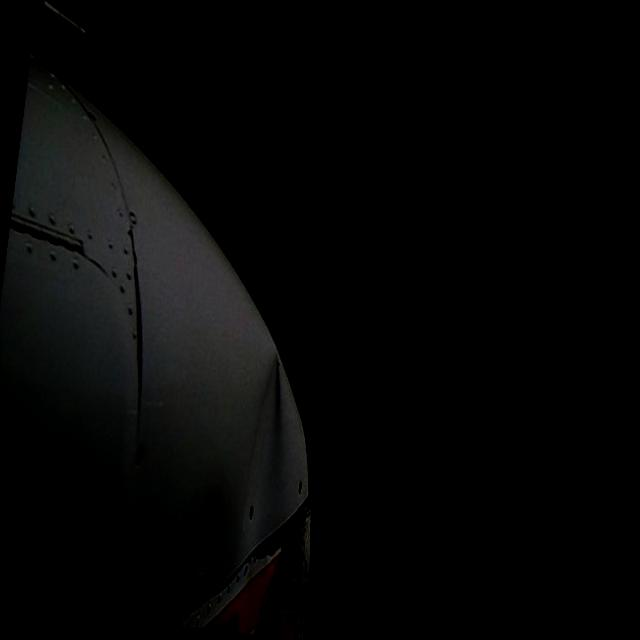dent: (222, 343, 346, 640)
